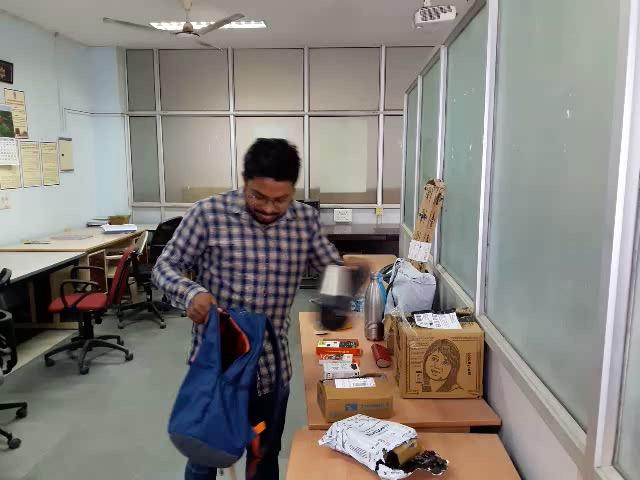shoplifting: (126, 234, 513, 472)
